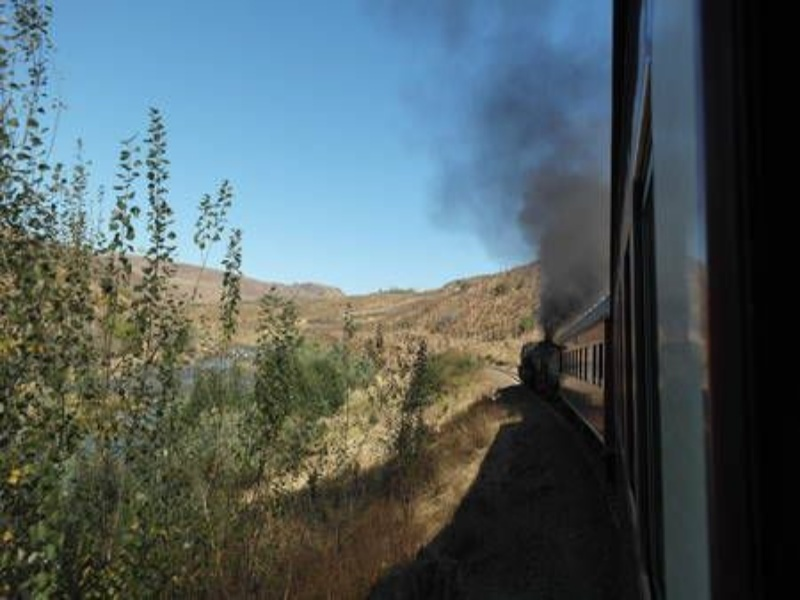smoke: (450, 1, 610, 294)
